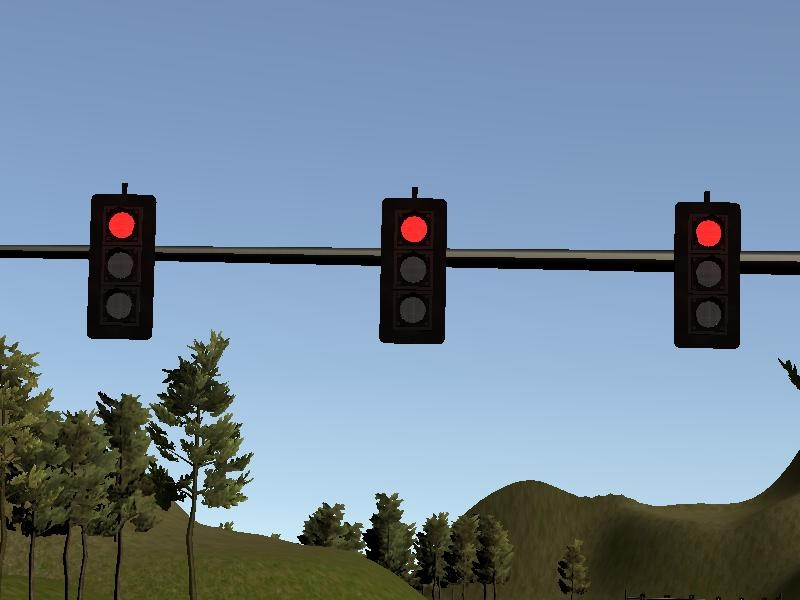RED: (378, 197, 446, 346), (672, 202, 740, 351), (90, 194, 156, 339)
